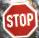Stop sign: (0, 0, 38, 37)
